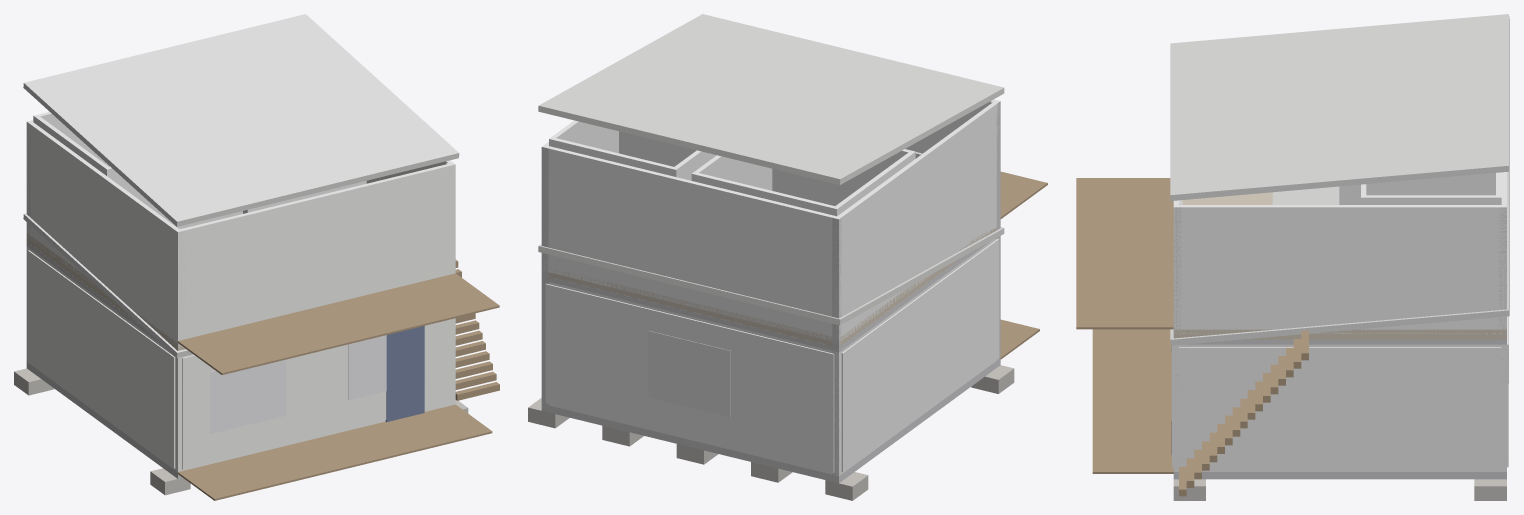
File: Duplex-20-Premium+SlopingRoof-LOD2.glb
3 renders of one model, left to right at view 1: azimuth 30°, elevation 25°; view 2: azimuth 150°, elevation 25°; view 3: azimuth 270°, elevation 25°, orthographic. The views are drawn at different scales.
Parts seen in each view (by area): view 1: RoofSlopingUpgrade.001, ExteriorShellUpper, ExteriorPanelsPremium, BalconyUpper, BalconyGround, WindowsLargeUpgrade, EntryDoor, ExteriorShell, StaircaseExternal, BedroomUpper, FoundationBlocks, RoofSlopingUpgrade (+3 smaller); view 2: ExteriorShellUpper, ExteriorPanelsPremium, RoofSlopingUpgrade.001, BedroomUpper, WindowsLargeUpgrade, StudyUpper, VerticalStructure, FoundationBlocks, FloorUpper, RoofSlopingUpgrade, BaseFrame, ExteriorShell (+3 smaller); view 3: RoofSlopingUpgrade.001, ExteriorShellUpper, ExteriorPanelsPremium, BalconyUpper, BalconyGround, RoofSlopingUpgrade, StaircaseExternal, StudyUpper, FloorUpper, ExteriorShell, BaseFrame, TopFrame (+2 smaller).
Boxes of the visible parts, <box> form: RoofSlopingUpgrade.001: <box>23,14,459,226</box>; ExteriorShellUpper: <box>26,120,455,346</box>; ExteriorPanelsPremium: <box>28,250,451,469</box>; BalconyUpper: <box>178,273,499,374</box>; BalconyGround: <box>178,404,492,500</box>; WindowsLargeUpgrade: <box>210,326,425,434</box>; EntryDoor: <box>385,326,424,422</box>; ExteriorShell: <box>26,246,455,471</box>; StaircaseExternal: <box>455,259,499,400</box>; BedroomUpper: <box>33,112,242,228</box>; FoundationBlocks: <box>14,368,468,495</box>; RoofSlopingUpgrade: <box>23,213,192,357</box>; ExteriorShellUpper: <box>541,99,1000,342</box>; ExteriorPanelsPremium: <box>545,238,999,473</box>; RoofSlopingUpgrade.001: <box>538,14,1004,184</box>; BedroomUpper: <box>691,149,915,216</box>; WindowsLargeUpgrade: <box>648,331,730,417</box>; StudyUpper: <box>549,120,716,180</box>; VerticalStructure: <box>541,101,1000,475</box>; FoundationBlocks: <box>528,365,1014,500</box>; FloorUpper: <box>548,227,996,347</box>; RoofSlopingUpgrade: <box>538,227,1004,325</box>; BaseFrame: <box>541,358,1000,483</box>; ExteriorShell: <box>548,237,998,475</box>; RoofSlopingUpgrade.001: <box>1170,14,1509,200</box>; ExteriorShellUpper: <box>1173,172,1506,334</box>; ExteriorPanelsPremium: <box>1172,316,1508,470</box>; BalconyUpper: <box>1076,178,1173,329</box>; BalconyGround: <box>1092,329,1173,473</box>; RoofSlopingUpgrade: <box>1170,171,1509,345</box>; StaircaseExternal: <box>1179,330,1308,496</box>; StudyUpper: <box>1361,172,1501,204</box>; FloorUpper: <box>1173,192,1506,339</box>; ExteriorShell: <box>1173,344,1506,471</box>; BaseFrame: <box>1173,472,1506,479</box>; TopFrame: <box>1185,339,1506,344</box>.
Bounding box in the file's own units: 7.94 × 6.72 × 8.01.
